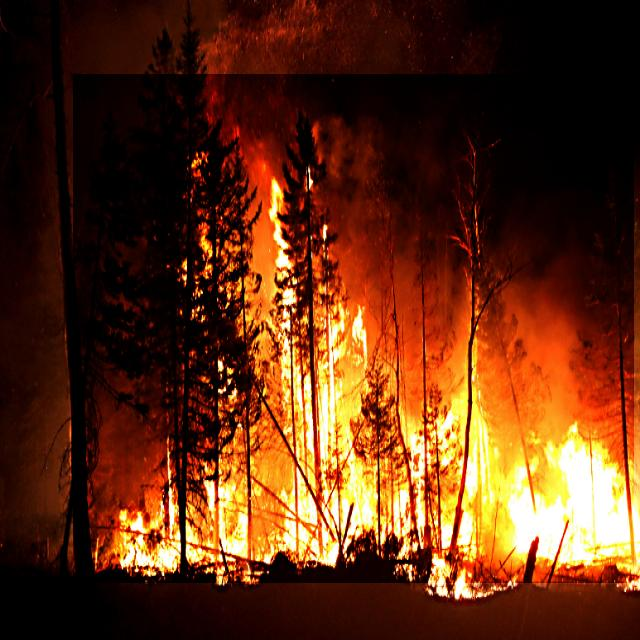Fire: (73, 74, 634, 583)
